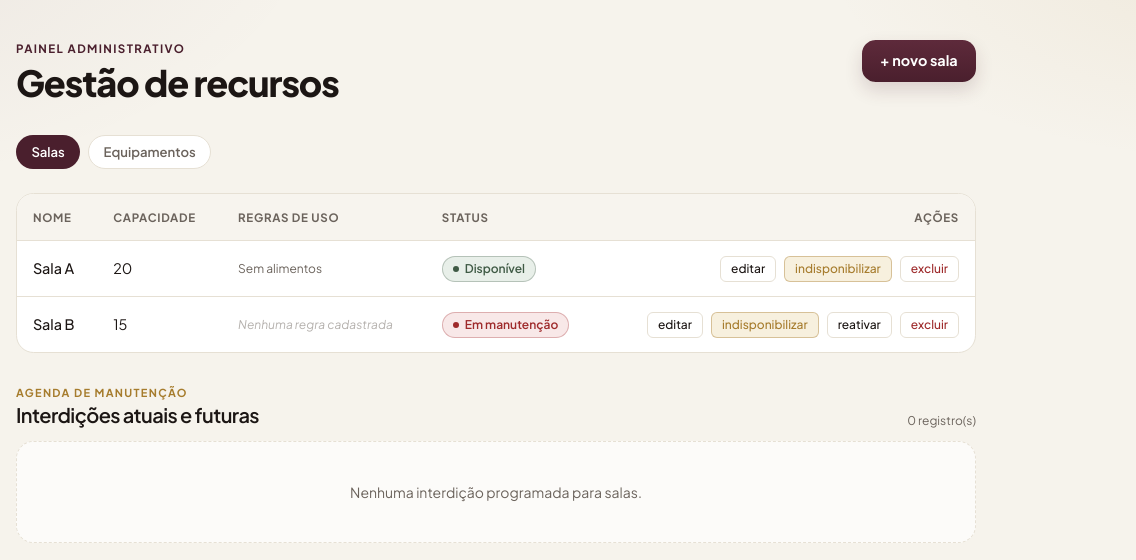
Scenario: AdminRecursos Page › lista salas cadastradas e permite alternar para a aba de equipamentos
The image size is (1136, 560).
Check: the text "Sala A" is shown, box x1=17 y1=241 x2=97 y2=297
Check: the text "Sala B" is shown, box x1=17 y1=297 x2=97 y2=352
Clica na aba equipamentos
Step 1. Click the button "equipamentos" → {"x": 150, "y": 152}, box x1=88 y1=135 x2=211 y2=169
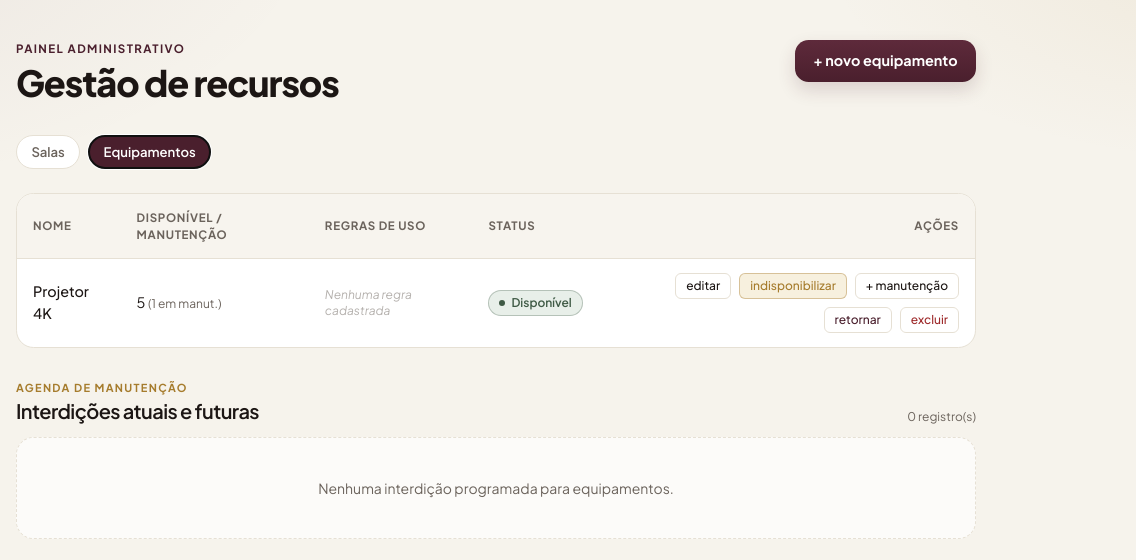
Check: the text "Projetor 4K" is shown, box x1=17 y1=258 x2=121 y2=347
Check: the text "Sala A" is gone
